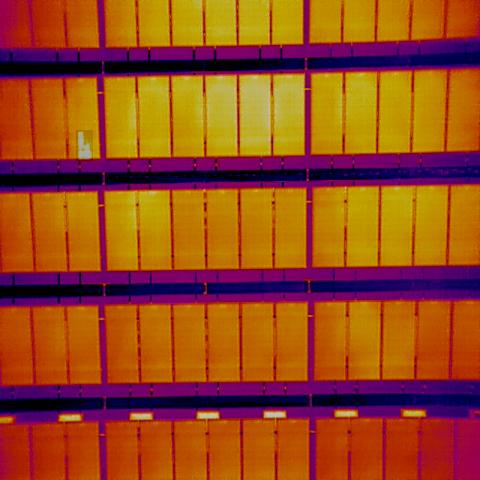fault: (76, 130, 93, 161)
